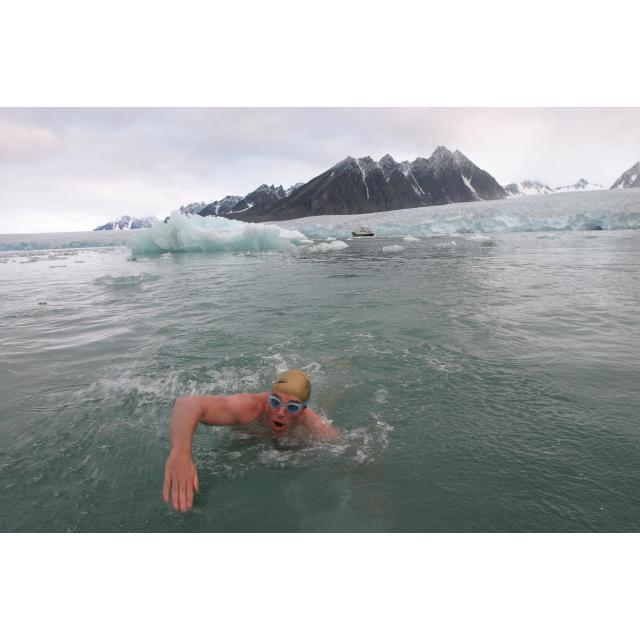human: (159, 367, 347, 513)
